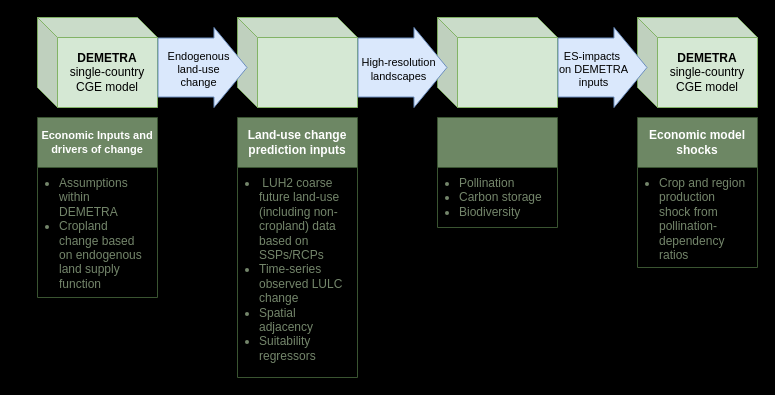
Image size: 775x395. Some labels were removed from this diagram. The centre of each missing label's shape, as x and y in pixels:
Ecosystem service model outputs: point (497, 172)
InVEST Ecosystem Service production function estimation: point (497, 62)
SEALS Calibrated LULC change prediction model: point (297, 62)
